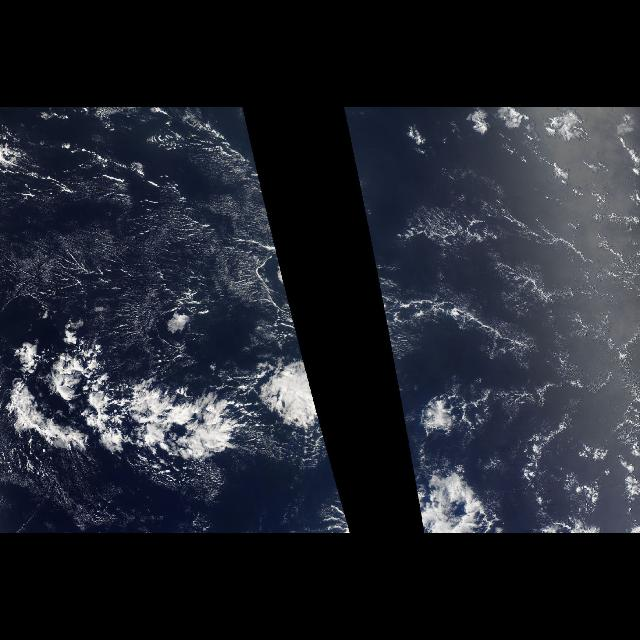Fish: (10, 219, 332, 526)
Gravel: (406, 244, 636, 524)
Sugar: (3, 183, 277, 323)
